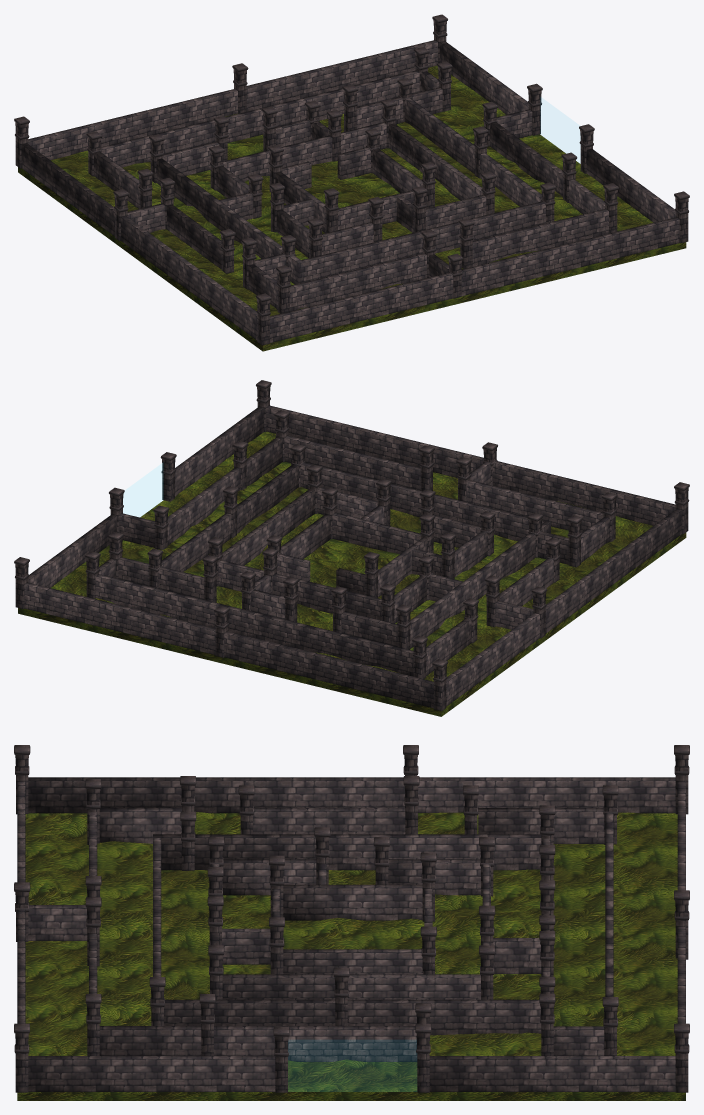
The model's file is maze.glb.
3 renders of one model, top to bottom at view 1: azimuth 30°, elevation 25°; view 2: azimuth 150°, elevation 25°; view 3: azimuth 270°, elevation 25°, orthographic. The views are drawn at different scales.
Parts seen in each view (by area): view 1: Maze, Column.031, Grass; view 2: Maze, Column.031, Grass; view 3: Maze, Grass, Column.031.
Boxes of the visible parts, bbox=[...] form: Maze: bbox=[21, 40, 679, 342]; Column.031: bbox=[14, 14, 689, 345]; Grass: bbox=[18, 65, 686, 351]; Maze: bbox=[24, 405, 682, 708]; Column.031: bbox=[14, 380, 689, 710]; Grass: bbox=[18, 431, 686, 716]; Maze: bbox=[17, 777, 685, 1091]; Grass: bbox=[17, 812, 685, 1100]; Column.031: bbox=[14, 745, 689, 1092].
Size of what is drawn, in the model's own units: 31.37 by 3.71 by 31.41.
Materials: 3 (3 with a texture image).
